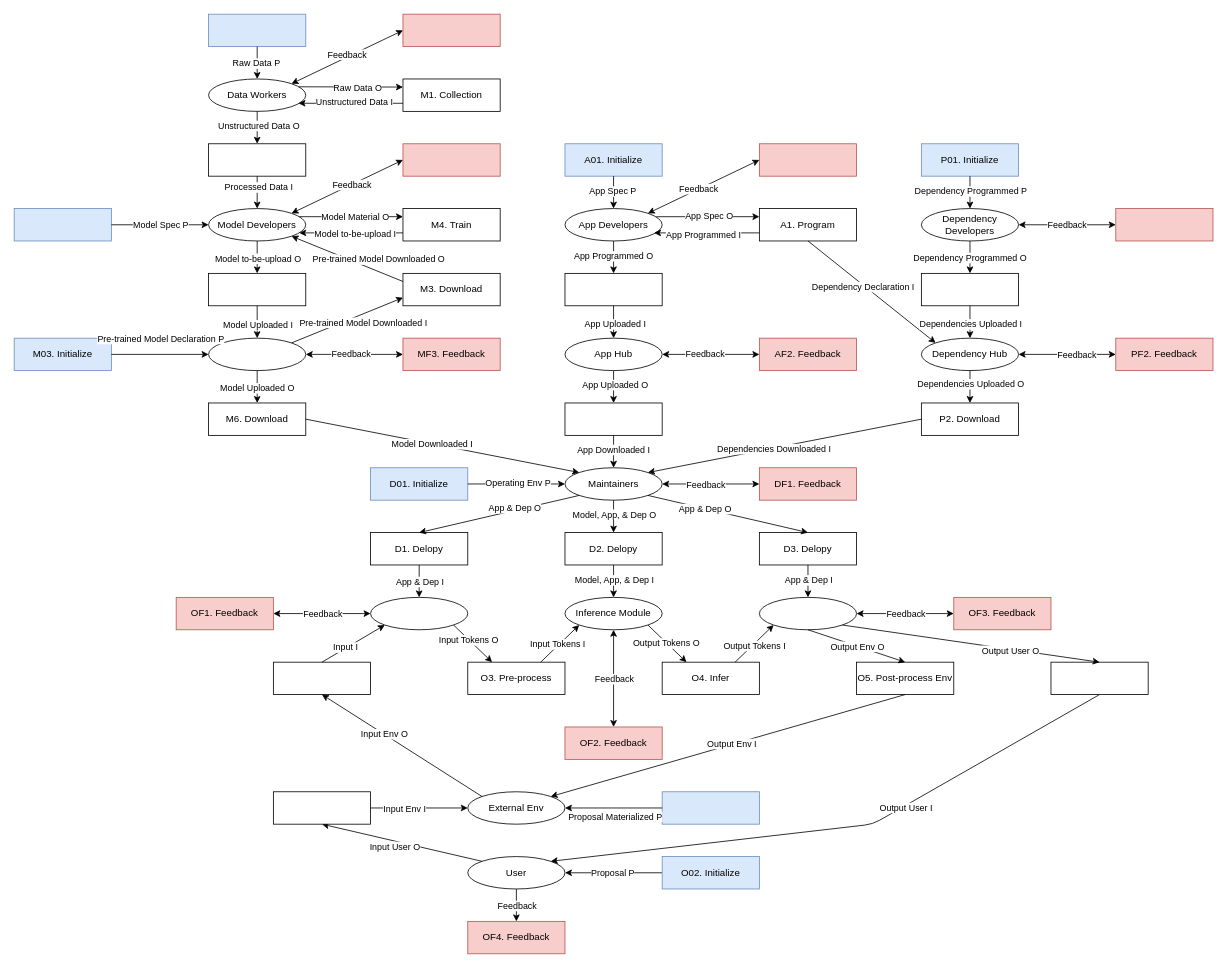
The diagram is 1227 pixels wide and 968 high, and some of its shapes have lost their labels. The shapes that lost their labels are listed below. From the top down, each one's box as (x1, y1, x2, y2) in pixels, then its label:
(208, 13, 306, 47): M01. Initialize
(402, 13, 500, 47): MF1. Feedback
(208, 143, 306, 176): M2. Process
(402, 143, 500, 176): MF2. Feedback
(759, 143, 857, 176): AF1. Feedback
(13, 208, 111, 241): M02. Initialize
(1115, 208, 1213, 241): PF1. Feedback
(208, 273, 306, 306): M5. Upload
(564, 273, 662, 306): A2. Upload
(921, 273, 1019, 306): P1. Upload
(208, 337, 306, 371): Model Hub
(564, 402, 662, 435): A3. Download
(370, 597, 468, 630): Pre-processing Module
(759, 597, 857, 630): Post-processing Module
(273, 661, 371, 695): O2. Input Env
(1050, 661, 1148, 695): O6. Post-process User
(273, 791, 371, 824): O1. Input User
(661, 791, 759, 824): O01. Initialize
